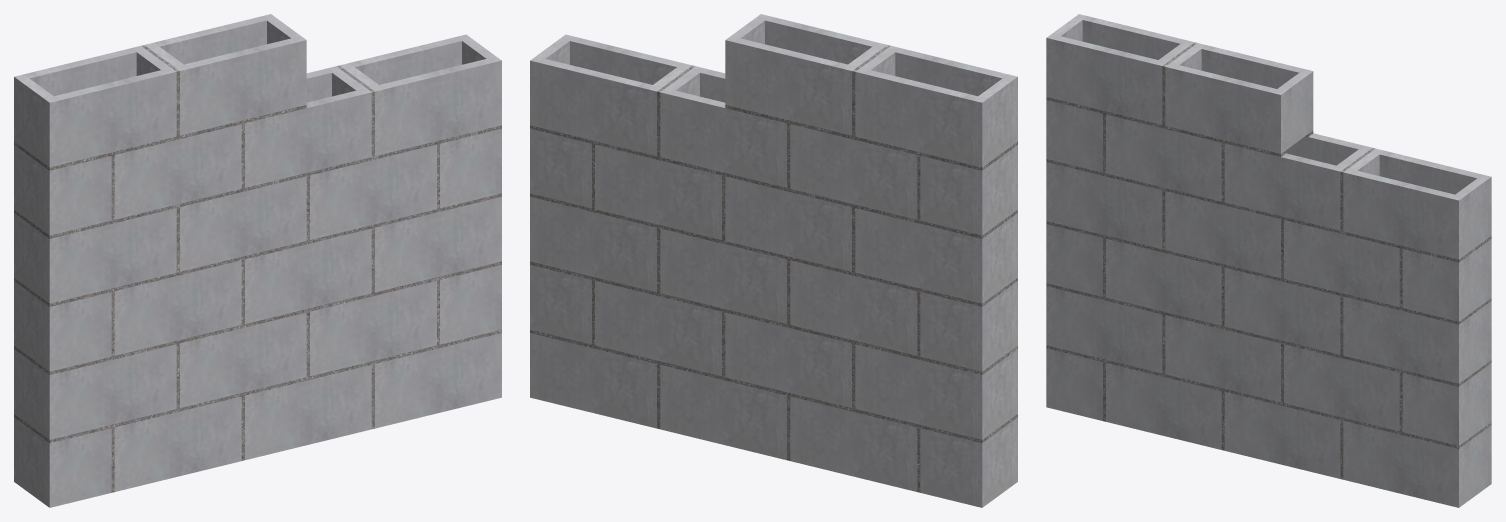
The model's file is hollow-block-wall.glb.
The picture shows the model from 3 angles, left to right: view 1: azimuth 30°, elevation 25°; view 2: azimuth 150°, elevation 25°; view 3: azimuth 330°, elevation 25°; orthographic projection. The views are drawn at different scales.
Visible parts, largest first — view 1: 空心砌块墙; view 2: 空心砌块墙; view 3: 空心砌块墙.
Part boxes in pixels (left/top/right/bottom): 空心砌块墙: left=14, top=14, right=501, bottom=507; 空心砌块墙: left=530, top=14, right=1017, bottom=507; 空心砌块墙: left=1046, top=14, right=1491, bottom=507.
Size of the model in its own units: 1.39 by 1.19 by 0.19.
Materials: 2 (2 with a texture image).
